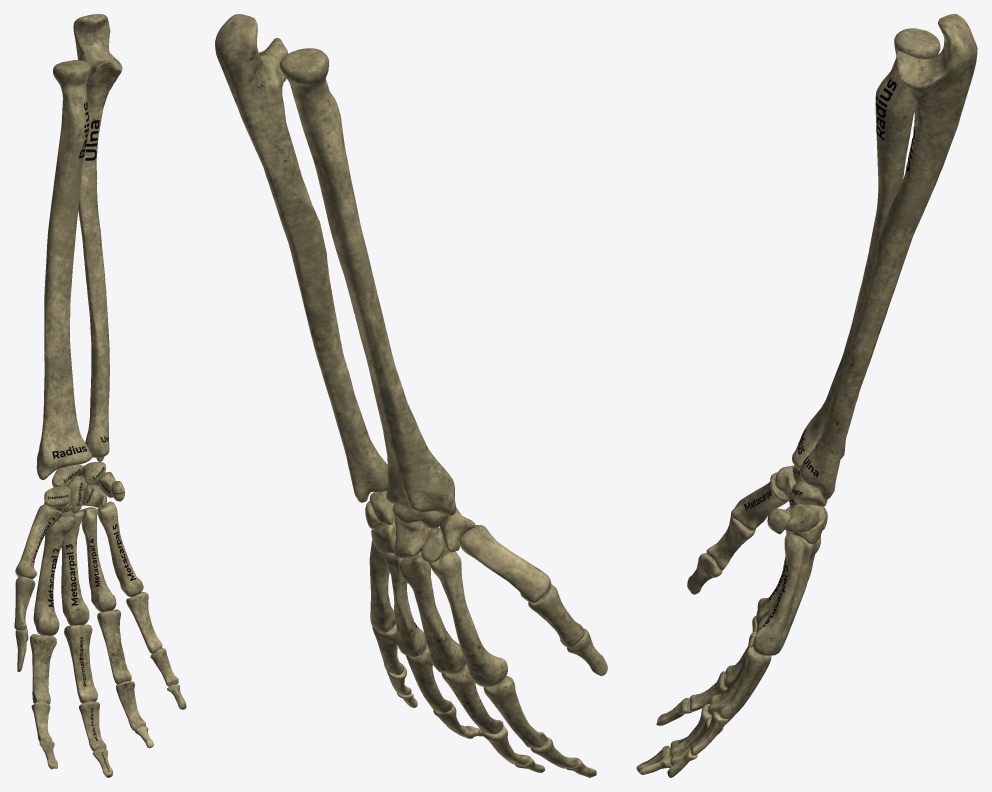
Rendered from hand.glb.
3 renders of one model, left to right at view 1: azimuth 30°, elevation 25°; view 2: azimuth 150°, elevation 25°; view 3: azimuth 270°, elevation 25°, orthographic. The views are drawn at different scales.
Visible parts, largest first — view 1: Radius R_5, Ulna R_0, Metacarpal 2 R_39, Metacarpal 3 R_38, Metacarpal 5 R_36, Proximal Phalanx 3 R_8, Metacarpal 4 R_37, Proximal Phalanx 2 R_9, Metacarpal 1 R_40, Proximal Phalanx 4 R_7, Proximal Phalanx 5 R_6, Middle Phalanx 3 R_34 (+12 smaller); view 2: Ulna R_0, Radius R_5, Metacarpal 2 R_39, Metacarpal 3 R_38, Metacarpal 1 R_40, Metacarpal 4 R_37, Proximal Phalanx 2 R_9, Metacarpal 5 R_36, Proximal Phalanx 3 R_8, Proximal Phalanx 1 R_10, Proximal Phalanx 4 R_7, Capitate R_48 (+5 smaller); view 3: Ulna R_0, Radius R_5, Metacarpal 5 R_36, Metacarpal 1 R_40, Proximal Phalanx 1 R_10, Proximal Phalanx 5 R_6, Metacarpal 4 R_37, Distal Phalanx 1 R_47, Triquetral R_1, Proximal Phalanx 3 R_8, Lunate R_41.
Part boxes in pixels (bbox=[...]): Radius R_5: bbox=[36, 60, 92, 479]; Ulna R_0: bbox=[73, 14, 122, 461]; Metacarpal 2 R_39: bbox=[33, 512, 74, 635]; Metacarpal 3 R_38: bbox=[61, 510, 89, 625]; Metacarpal 5 R_36: bbox=[97, 501, 143, 597]; Proximal Phalanx 3 R_8: bbox=[64, 624, 97, 703]; Metacarpal 4 R_37: bbox=[80, 507, 116, 611]; Proximal Phalanx 2 R_9: bbox=[30, 634, 56, 704]; Metacarpal 1 R_40: bbox=[15, 504, 62, 579]; Proximal Phalanx 4 R_7: bbox=[97, 609, 131, 684]; Proximal Phalanx 5 R_6: bbox=[126, 592, 162, 653]; Middle Phalanx 3 R_34: bbox=[79, 701, 106, 751]; Ulna R_0: bbox=[215, 14, 387, 502]; Radius R_5: bbox=[279, 48, 456, 515]; Metacarpal 2 R_39: bbox=[428, 548, 507, 687]; Metacarpal 3 R_38: bbox=[400, 551, 465, 673]; Metacarpal 1 R_40: bbox=[460, 525, 551, 603]; Metacarpal 4 R_37: bbox=[384, 552, 426, 656]; Proximal Phalanx 2 R_9: bbox=[483, 676, 545, 747]; Metacarpal 5 R_36: bbox=[369, 540, 395, 632]; Proximal Phalanx 3 R_8: bbox=[441, 664, 503, 734]; Proximal Phalanx 1 R_10: bbox=[528, 584, 584, 647]; Proximal Phalanx 4 R_7: bbox=[405, 644, 452, 713]; Capitate R_48: bbox=[394, 515, 429, 558]; Ulna R_0: bbox=[800, 14, 977, 500]; Radius R_5: bbox=[792, 28, 940, 468]; Metacarpal 5 R_36: bbox=[753, 533, 806, 655]; Metacarpal 1 R_40: bbox=[731, 472, 788, 530]; Proximal Phalanx 1 R_10: bbox=[706, 515, 755, 570]; Proximal Phalanx 5 R_6: bbox=[718, 647, 764, 718]; Metacarpal 4 R_37: bbox=[768, 536, 815, 655]; Distal Phalanx 1 R_47: bbox=[687, 553, 722, 594]; Triquetral R_1: bbox=[785, 504, 819, 532]; Proximal Phalanx 3 R_8: bbox=[707, 631, 756, 715]; Lunate R_41: bbox=[792, 481, 827, 506].
Bounding box in the file's own units: 0.1333 × 0.4197 × 0.1583.
Materials: 20 (20 with a texture image).
